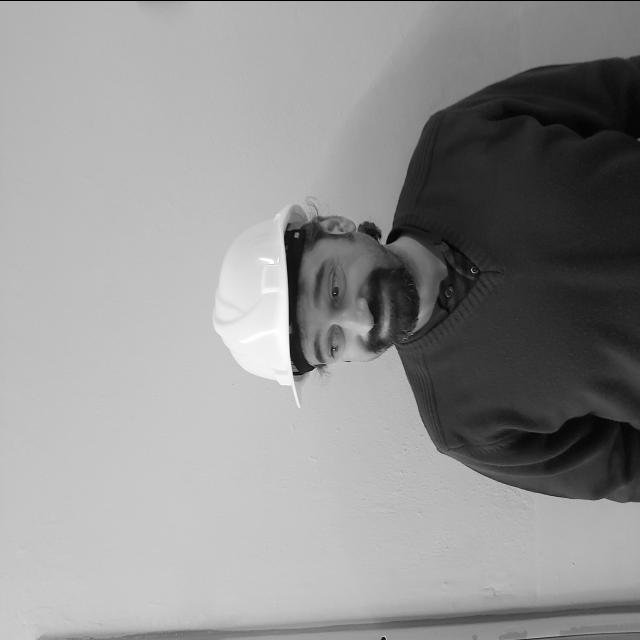safety_helmet: (213, 201, 318, 403)
